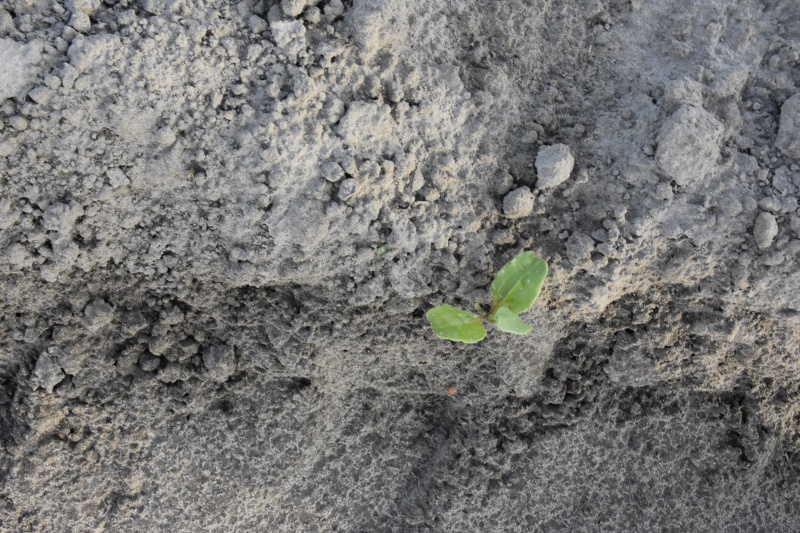sugar beet: (423, 248, 554, 349)
